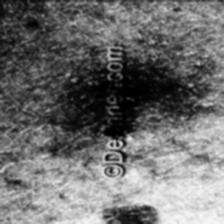Non-Cancerous Skin Condition: (50, 66, 178, 148)
